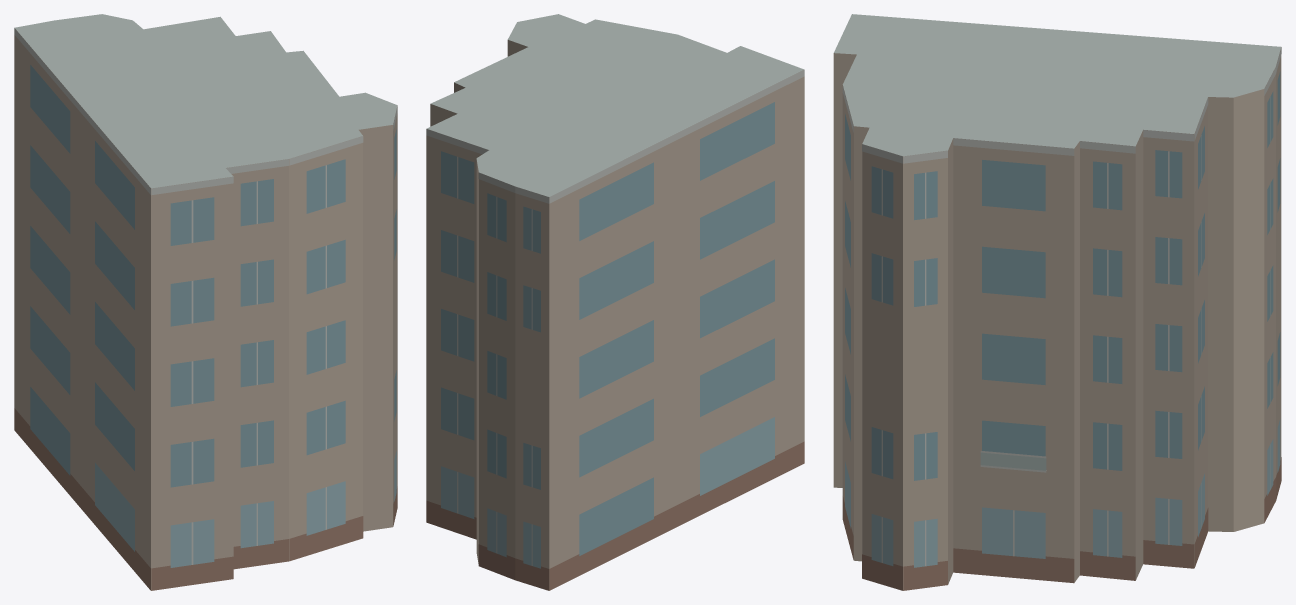
File: survey-upis-32872358.glb
3 views of the same model, side by side, from view 1: azimuth 30°, elevation 25°; view 2: azimuth 150°, elevation 25°; view 3: azimuth 270°, elevation 25° (orthographic). The views are drawn at different scales.
Visible parts, largest first — view 1: survey-upis-32872358.tmp; view 2: survey-upis-32872358.tmp; view 3: survey-upis-32872358.tmp.
Part boxes in pixels (left/top/right/bottom): survey-upis-32872358.tmp: left=14, top=14, right=397, bottom=590; survey-upis-32872358.tmp: left=426, top=14, right=804, bottom=590; survey-upis-32872358.tmp: left=833, top=14, right=1281, bottom=590.
Bounding box in the file's own units: 10.09 × 14.35 × 13.41.
